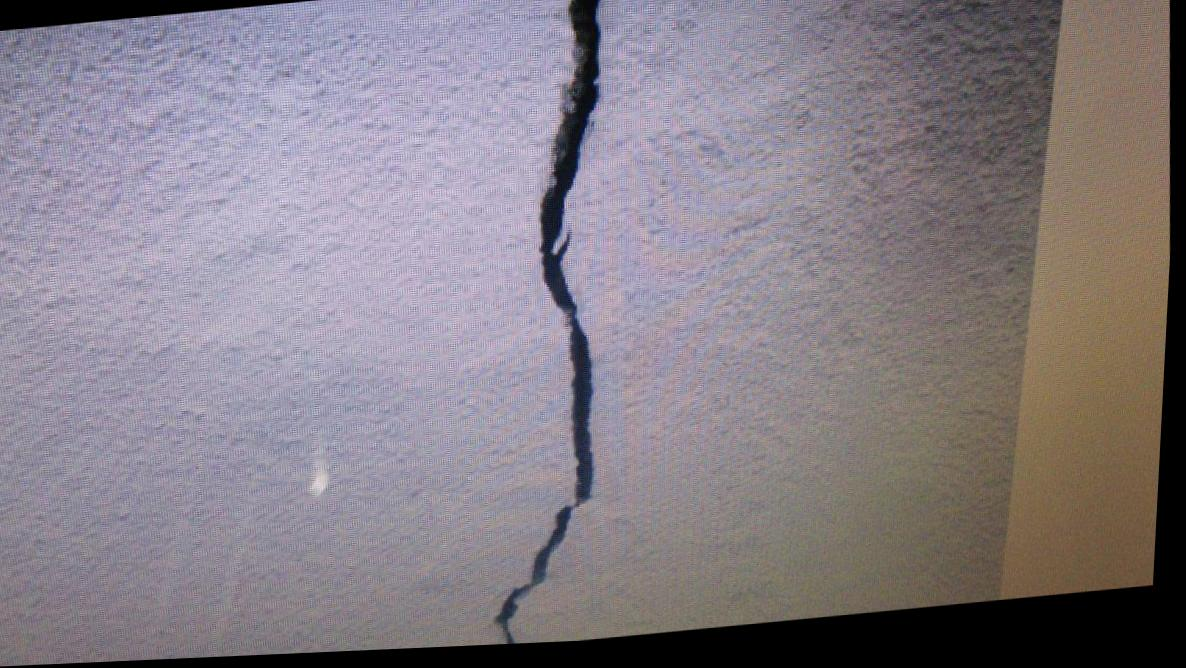crack: (501, 0, 603, 649)
